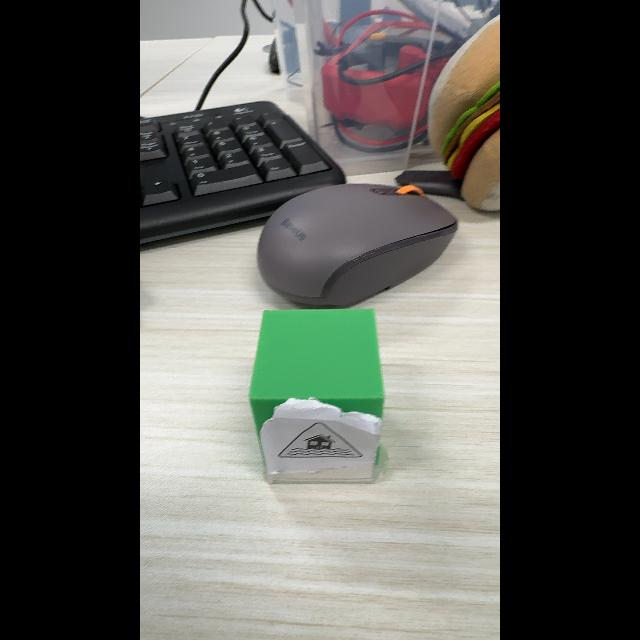Tsunami: (278, 423, 362, 459)
